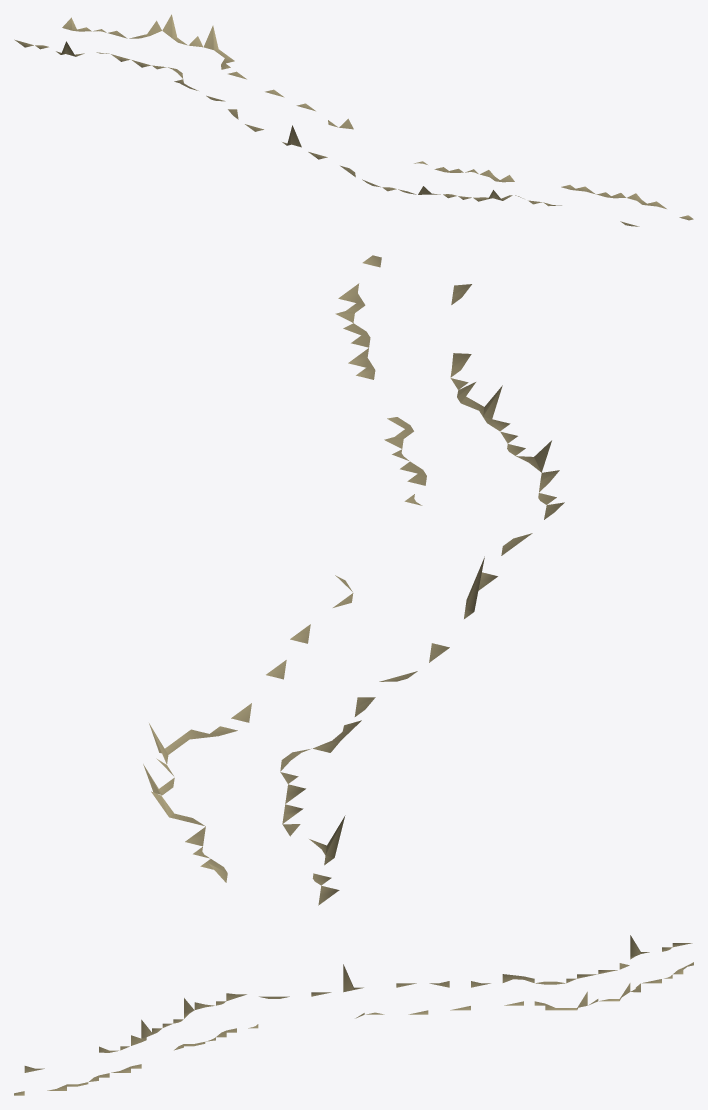
3 renders of one model, top to bottom at view 1: azimuth 30°, elevation 25°; view 2: azimuth 150°, elevation 25°; view 3: azimuth 270°, elevation 25°, orthographic. The views are drawn at different scales.
Parts seen in each view (by area): view 1: model; view 2: model; view 3: model.
Boxes of the visible parts, bbox=[...] form: model: bbox=[14, 14, 693, 226]; model: bbox=[143, 255, 564, 905]; model: bbox=[14, 935, 693, 1095].
Bounding box in the file's own units: 34 × 2.5 × 64.
